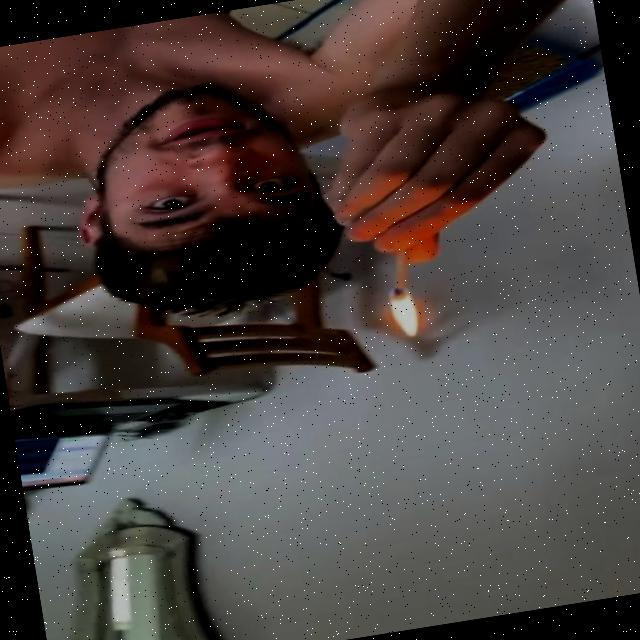fire: (386, 283, 422, 341)
